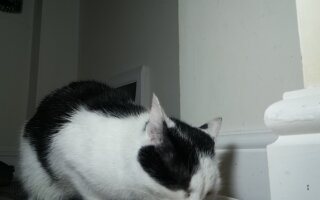bad: (19, 87, 226, 200)
